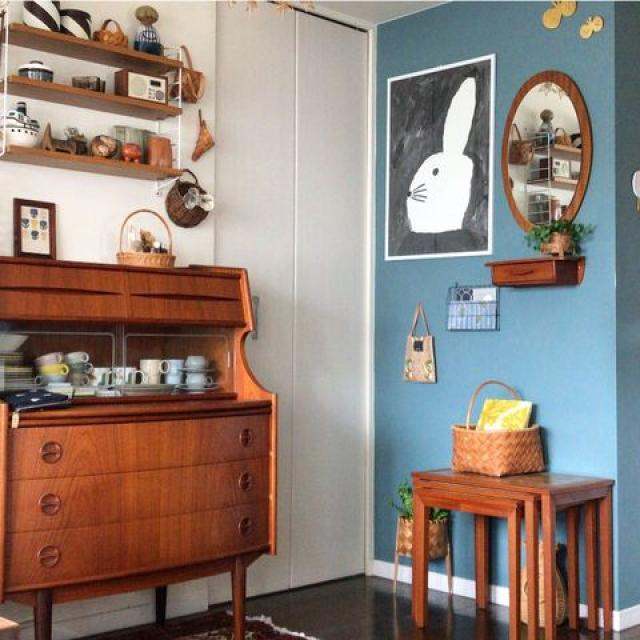vintage desk: (409, 453, 622, 640)
vintage shelf: (0, 255, 282, 640), (5, 15, 191, 185)
